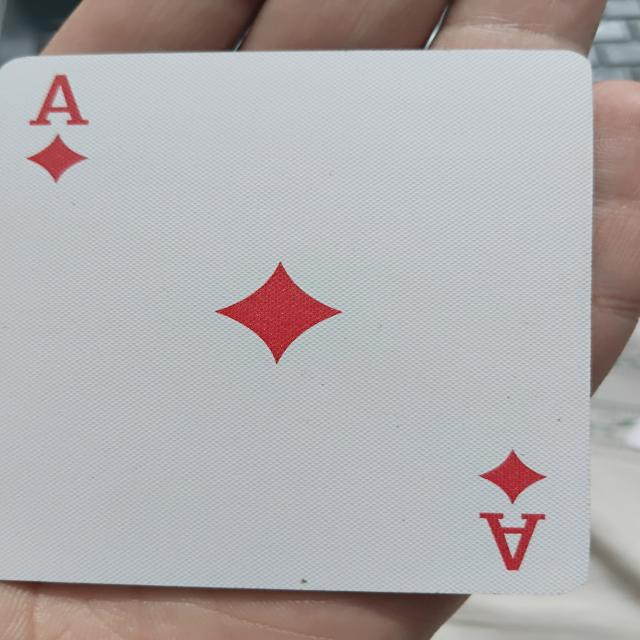AD: (0, 60, 594, 598)
